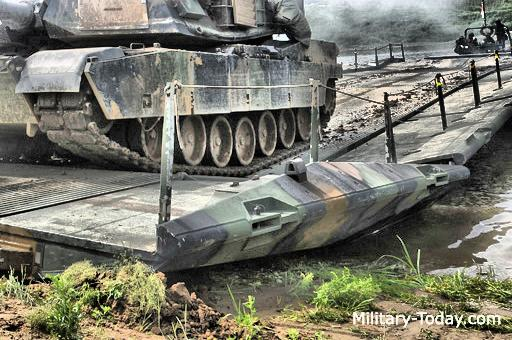tanks: (1, 1, 343, 175)
